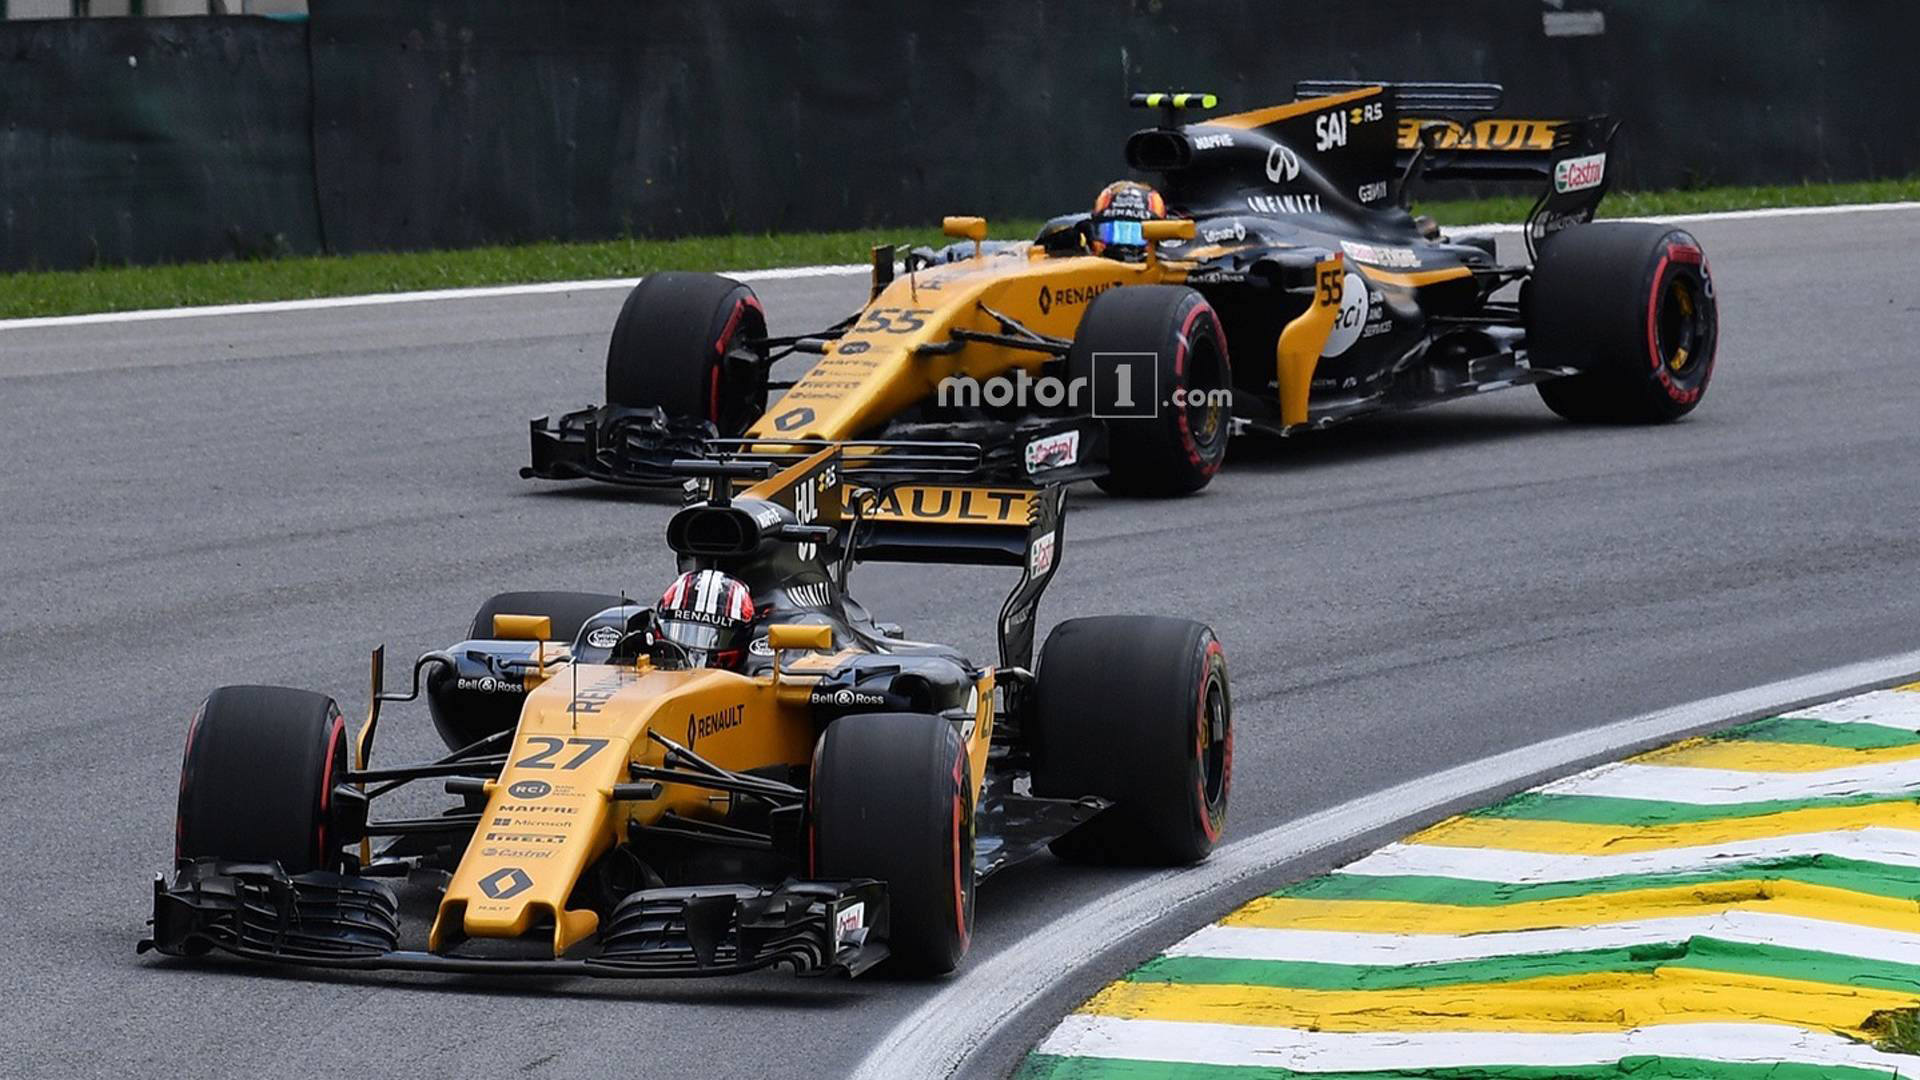F1 Car: (135, 429, 1251, 1006), (527, 45, 1738, 500)
